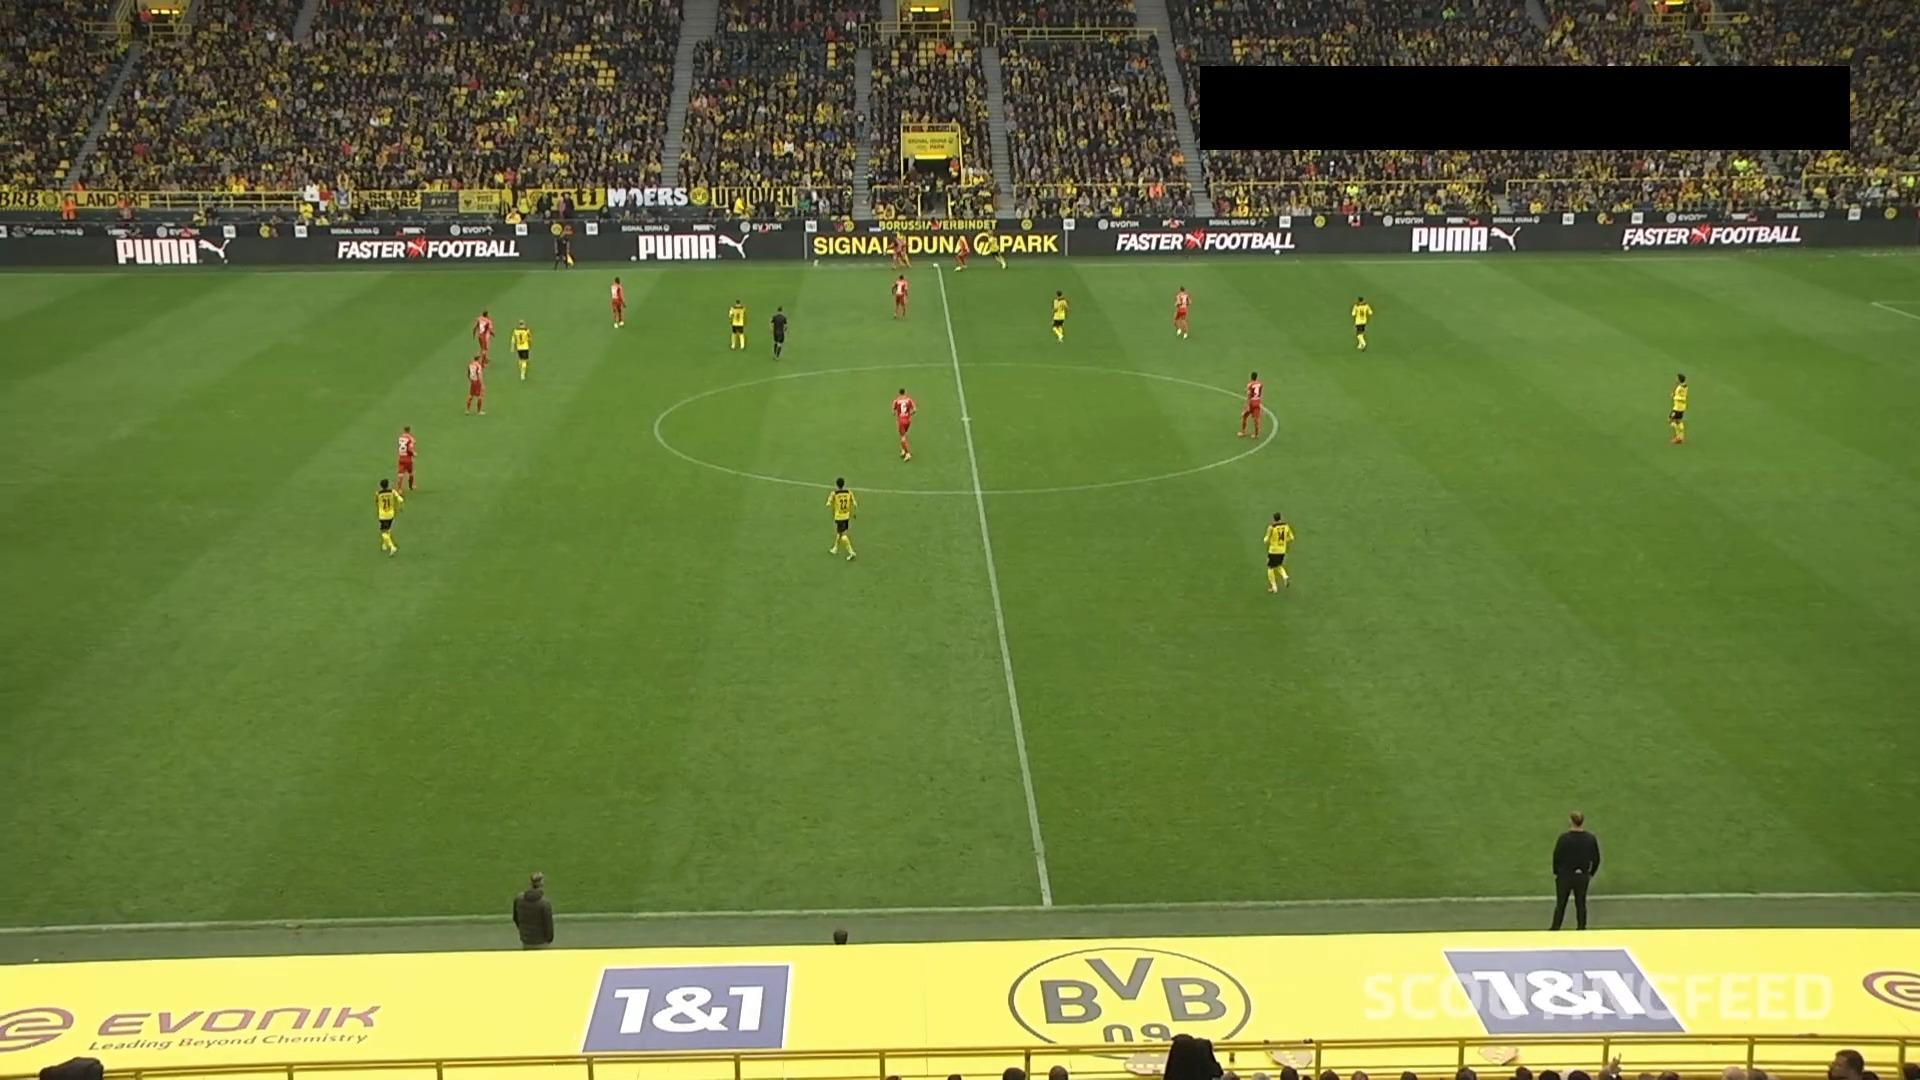ball: (931, 261, 940, 270)
